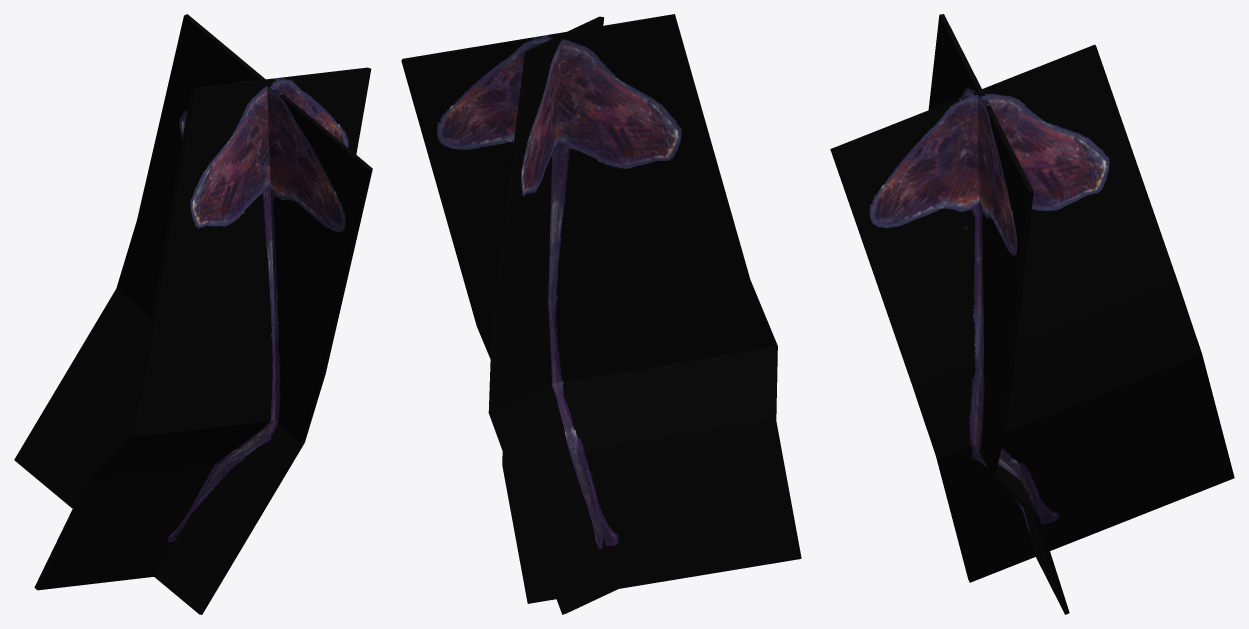
The model's file is PurpleMushroom1.fbx.
3 views of the same model, side by side, from view 1: azimuth 30°, elevation 25°; view 2: azimuth 150°, elevation 25°; view 3: azimuth 270°, elevation 25° (orthographic). The views are drawn at different scales.
Parts seen in each view (by area): view 1: PurpleMushroom1; view 2: PurpleMushroom1; view 3: PurpleMushroom1.
Boxes of the visible parts, x1,y1,x2,y2 form: PurpleMushroom1: [14, 14, 372, 614]; PurpleMushroom1: [401, 14, 801, 614]; PurpleMushroom1: [830, 14, 1234, 614].
Bounding box in the file's own units: 231 × 334 × 218.
1 material, 1 textured.
